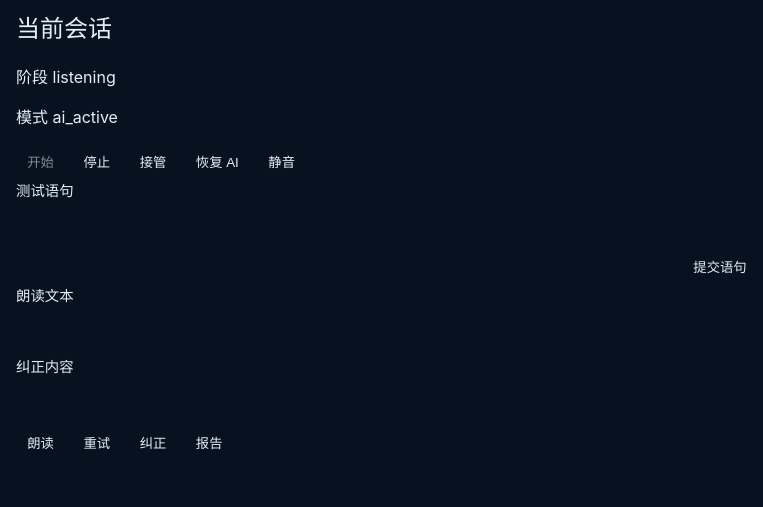
WorkspaceSession › shows SESSION_CHANGED when the command result is not ok
This screenshot has width=763, height=507.
Expected: the text "阶段 listening" is shown, 16,67 -> 116,87
Click the button "重试". click: (97, 443)
box: 72,425 -> 121,460
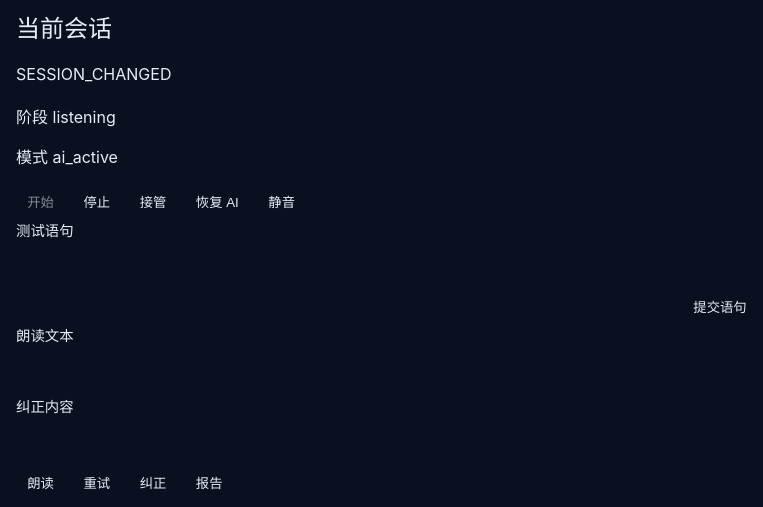
Now the message reads "SESSION_CHANGED", box 16,64 -> 171,84
